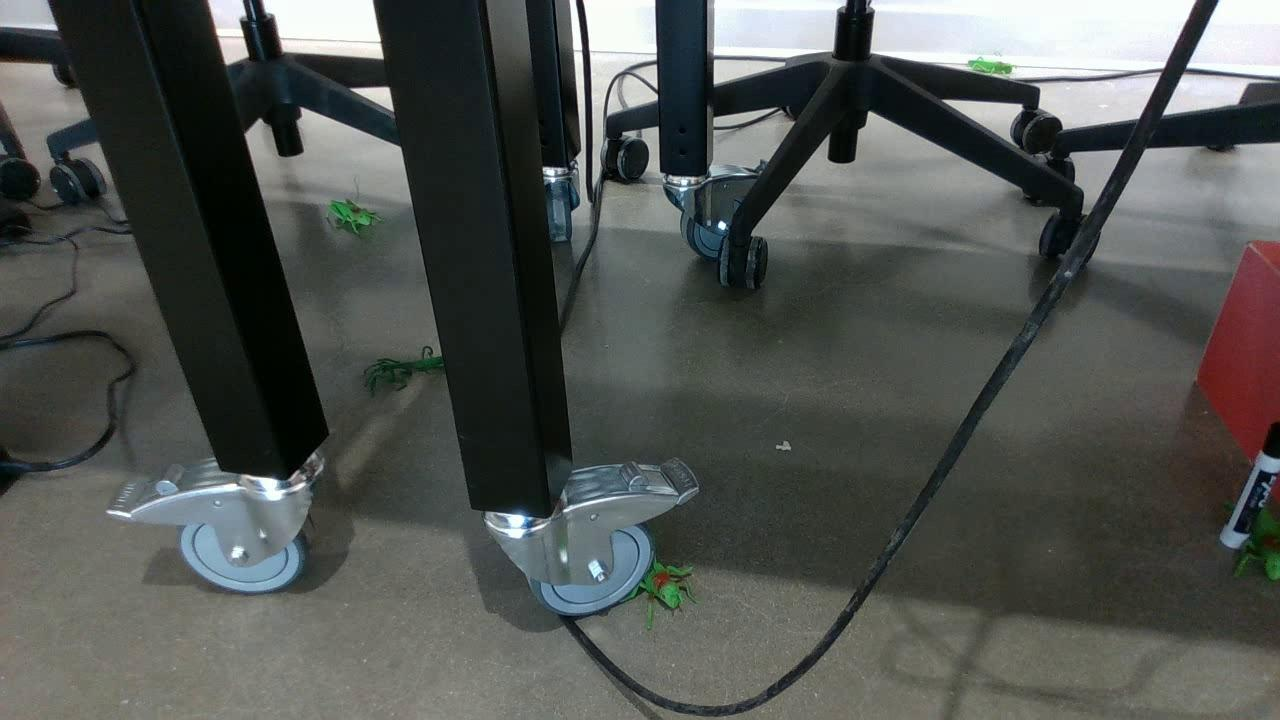grasshopper: (628, 551, 708, 624), (1234, 480, 1280, 580), (327, 198, 381, 239), (965, 57, 1016, 77)
